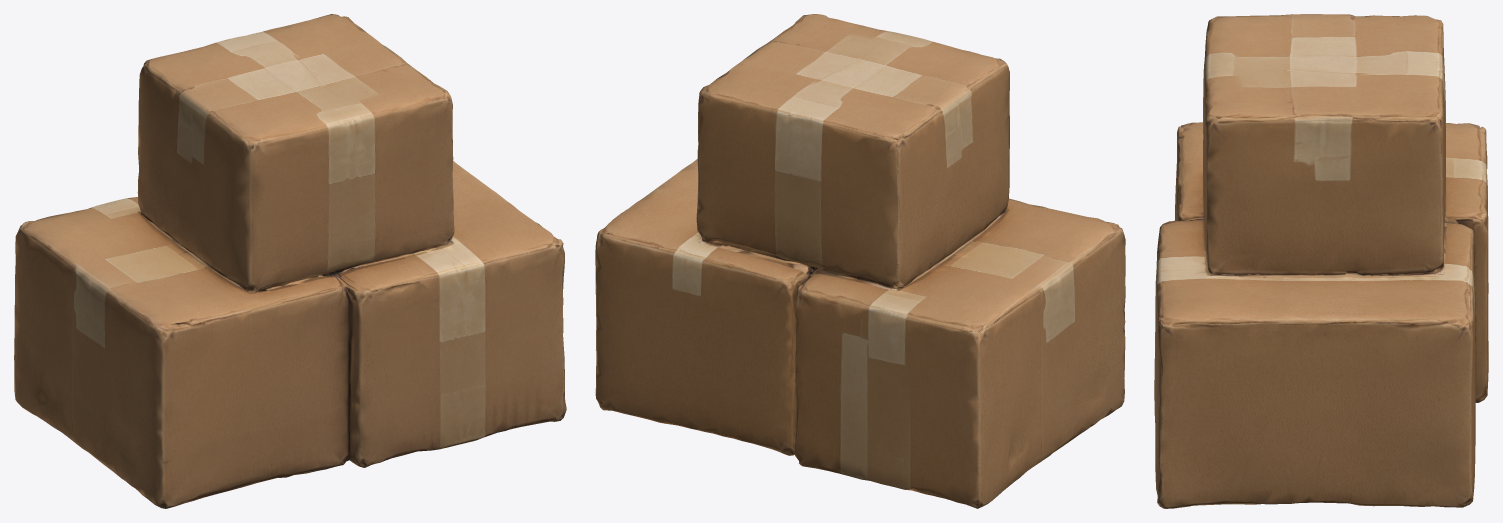
The model's file is VAR_Yellow_CardboardBoxes.fbx.
3 renders of one model, left to right at view 1: azimuth 30°, elevation 25°; view 2: azimuth 150°, elevation 25°; view 3: azimuth 270°, elevation 25°, orthographic. The views are drawn at different scales.
Parts seen in each view (by area): view 1: texture_mapping; view 2: texture_mapping; view 3: texture_mapping.
Part boxes in pixels (x1,y1,x2,y2): texture_mapping: (14,14,566,508); texture_mapping: (595,14,1125,508); texture_mapping: (1154,14,1488,508).
Bounding box in the file's own units: 0.9986 × 0.6939 × 0.8072.
1 material, 1 textured.
